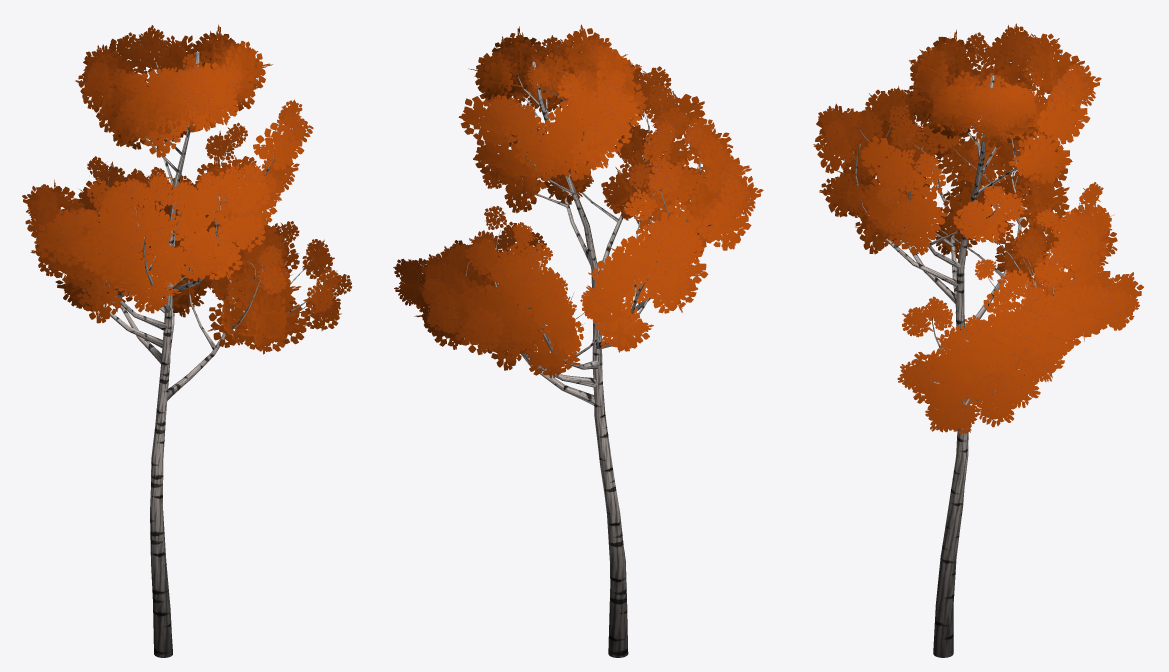
File: Birch_3.glb
3 renders of one model, left to right at view 1: azimuth 30°, elevation 25°; view 2: azimuth 150°, elevation 25°; view 3: azimuth 270°, elevation 25°, orthographic. The views are drawn at different scales.
Parts seen in each view (by area): view 1: Birch_3; view 2: Birch_3; view 3: Birch_3.
Part boxes in pixels (x1,y1,x2,y2): Birch_3: [22, 24, 352, 657]; Birch_3: [393, 24, 763, 657]; Birch_3: [813, 23, 1143, 657].
Bounding box in the file's own units: 7.97 × 13.36 × 6.72.
Materials: 2 (2 with a texture image).
